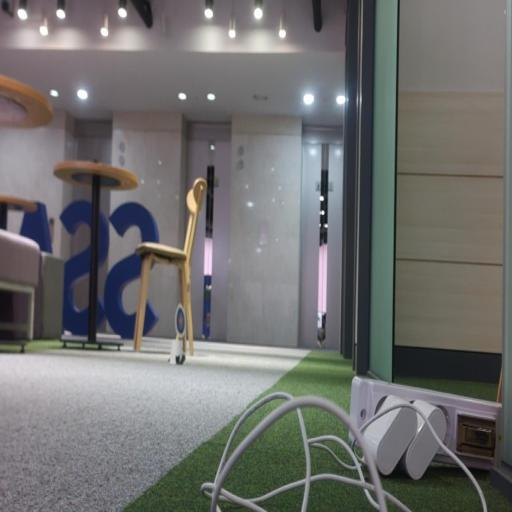target: (175, 303, 186, 338)
